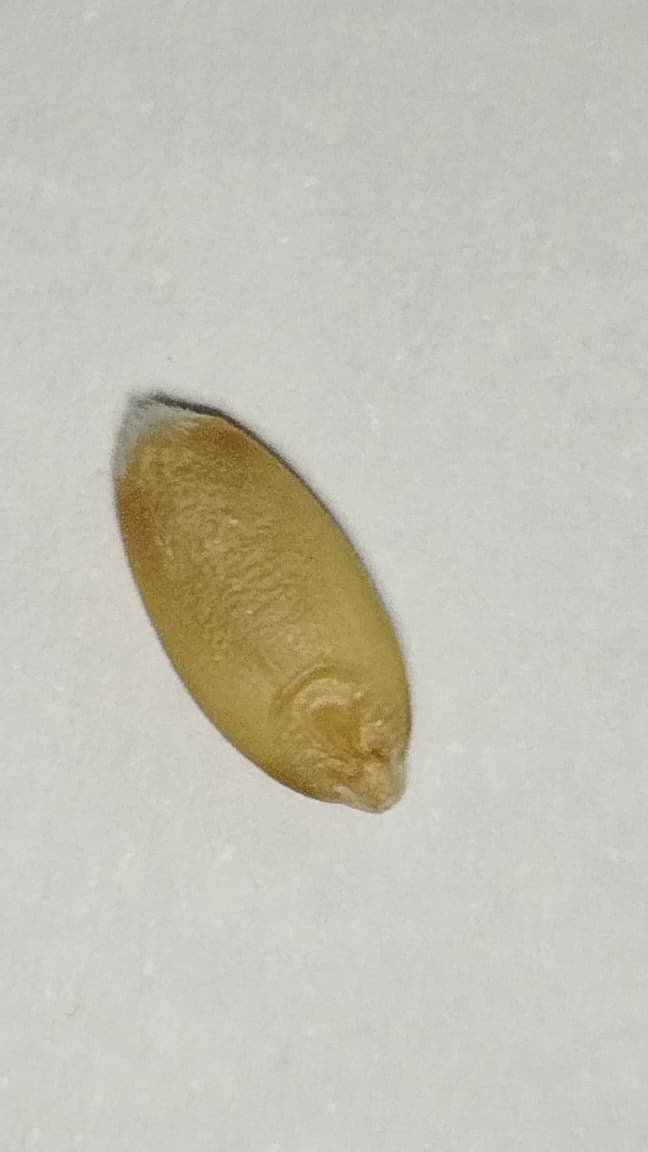healthy: (107, 391, 414, 811)
